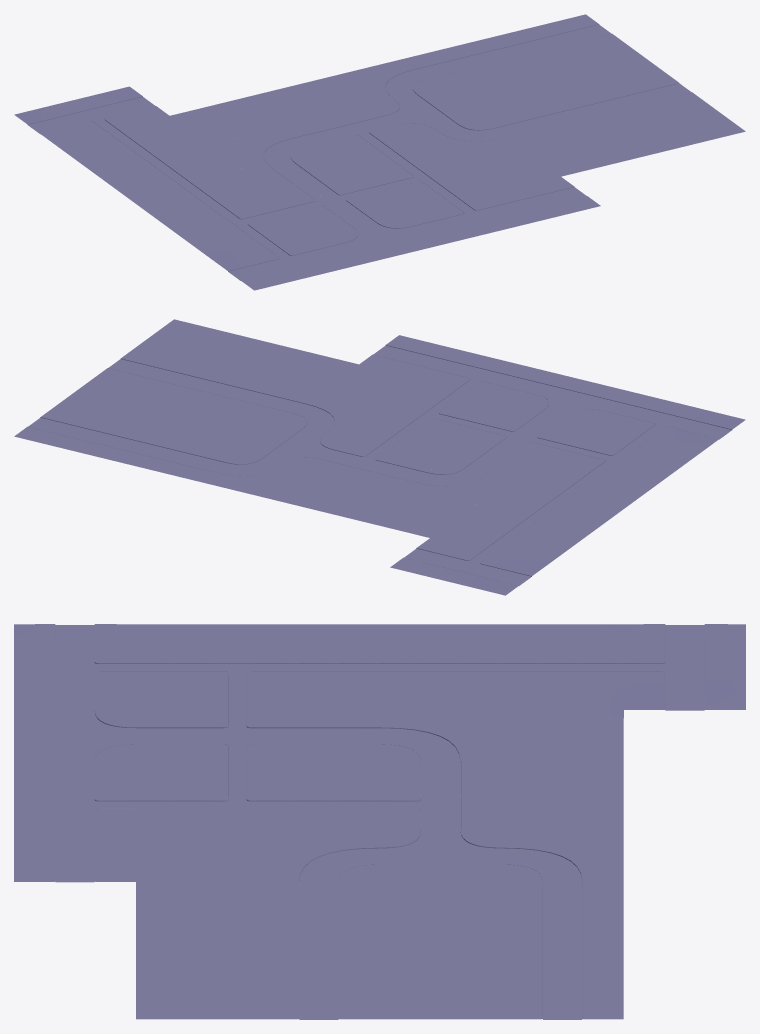
Rendered from road_full.fbx.
The picture shows the model from 3 angles, top to bottom: view 1: azimuth 30°, elevation 25°; view 2: azimuth 150°, elevation 25°; view 3: azimuth 270°, elevation 25°; orthographic projection. The views are drawn at different scales.
Parts seen in each view (by area): view 1: R_027; view 2: R_027; view 3: R_027.
Boxes of the visible parts, x1,y1,x2,y2 form: R_027: (14, 14, 745, 290); R_027: (14, 319, 745, 595); R_027: (14, 624, 745, 1019).
Bounding box in the file's own units: 23000 × 21.28 × 18011.
